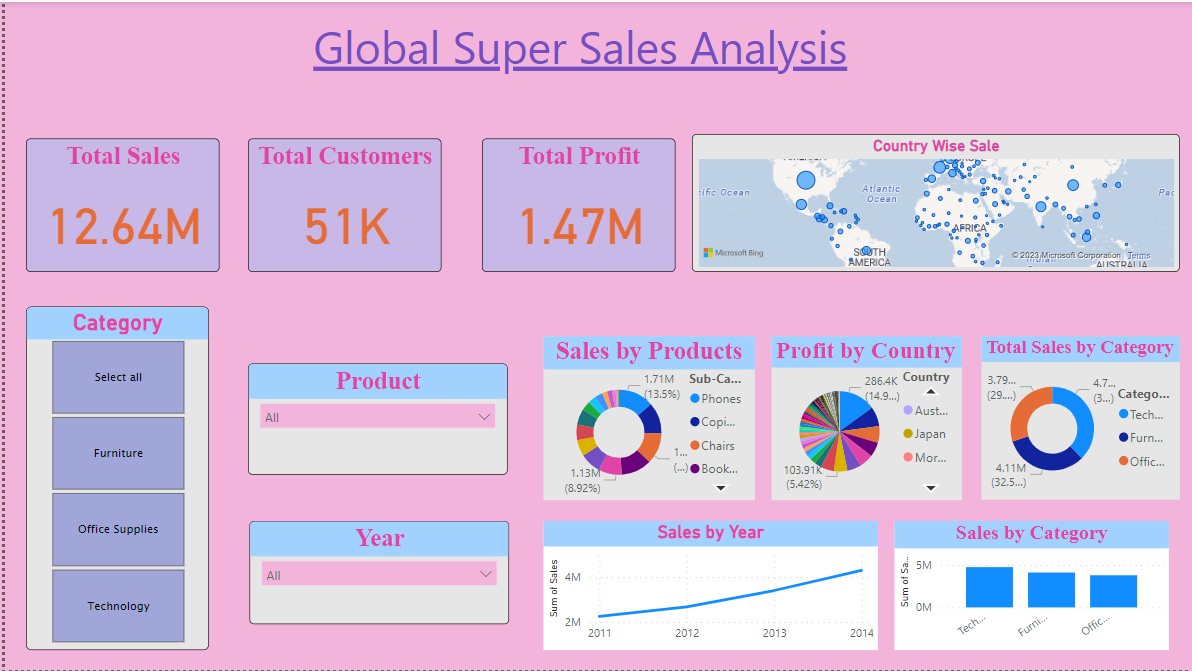

The dashboard page shown, as its layout file describes it:
{"tool":"powerbi","page":{"name":"Page 1","canvas":[1280,720],"ordinal":0},"visuals":[{"type":"textbox","box":[220,10,800.9,77.7],"z":0},{"type":"card","title":"Total Customers","fields":{"Values":["Global Superstore - Orders.Total Customers"]},"box":[262.1,147.2,208.7,144],"z":1000},{"type":"card","title":"Total Sales","fields":{"Values":["Global Superstore - Orders.Total Sales"]},"box":[22.7,147.2,208.7,144],"z":2000},{"type":"card","title":"Total Profit","fields":{"Values":["Global Superstore - Orders.Total profit"]},"box":[514.5,147.2,208.7,144],"z":3000},{"type":"map","title":"Country Wise Sale","fields":{"Size":["Global Superstore - Orders.Total Sales"],"Category":["Global Superstore - Orders.Country"]},"box":[741,142.4,525.8,148.9],"z":4000},{"type":"slicer","title":"Category","fields":{"Values":["Global Superstore - Orders.Category"]},"box":[22.7,328.4,197.4,370.5],"z":5000},{"type":"slicer","title":"Product","fields":{"Values":["Global Superstore - Orders.Sub-Category"]},"box":[262.1,389.9,279.9,119.7],"z":6000},{"type":"slicer","title":"Year","fields":{"Values":["Global Superstore - Orders.Order Date.Variation.Date Hierarchy.Year"]},"box":[263.7,559.8,279.9,111.6],"z":7000},{"type":"donutChart","title":"Sales by Products","fields":{"Y":["Sum(Global Superstore - Orders.Sales)"],"Category":["Global Superstore - Orders.Sub-Category"]},"box":[580.9,360.8,228.1,176.4],"z":8000},{"type":"pieChart","title":"Profit by Country","fields":{"Y":["Sum(Global Superstore - Orders.Profit)"],"Category":["Global Superstore - Orders.Country"]},"box":[826.8,360.8,205.5,176.4],"z":9000},{"type":"donutChart","fields":{"Y":["Global Superstore - Orders.Total Sales"],"Category":["Global Superstore - Orders.Category"]},"box":[1053,361,214,176],"z":9001},{"type":"lineChart","title":"Sales by Year","fields":{"Y":["Sum(Global Superstore - Orders.Sales)"],"Category":["Global Superstore - Orders.Order Date.Variation.Date Hierarchy.Year"]},"box":[580.9,559.8,360.8,139.1],"z":9002},{"type":"columnChart","title":"Sales by Category","fields":{"Y":["Sum(Global Superstore - Orders.Sales)"],"Category":["Global Superstore - Orders.Category"]},"box":[959.5,559.8,296.1,139.1],"z":9003}]}

Visuals, with their boxes in screenshot pixels (x1, y1, x2, y2), scaled from the page's 1280x720 canvas onto the 1192x671 screenshot:
textbox: 205/9/951/82
"Total Customers" card: 244/137/438/271
"Total Sales" card: 21/137/215/271
"Total Profit" card: 479/137/673/271
"Country Wise Sale" map: 690/133/1180/271
"Category" slicer: 21/306/205/651
"Product" slicer: 244/363/505/475
"Year" slicer: 246/522/506/626
"Sales by Products" donutChart: 541/336/753/501
"Profit by Country" pieChart: 770/336/961/501
donutChart - Global Superstore - Orders.Total Sales x Global Superstore - Orders.Category: 981/336/1180/500
"Sales by Year" lineChart: 541/522/877/651
"Sales by Category" columnChart: 894/522/1169/651
